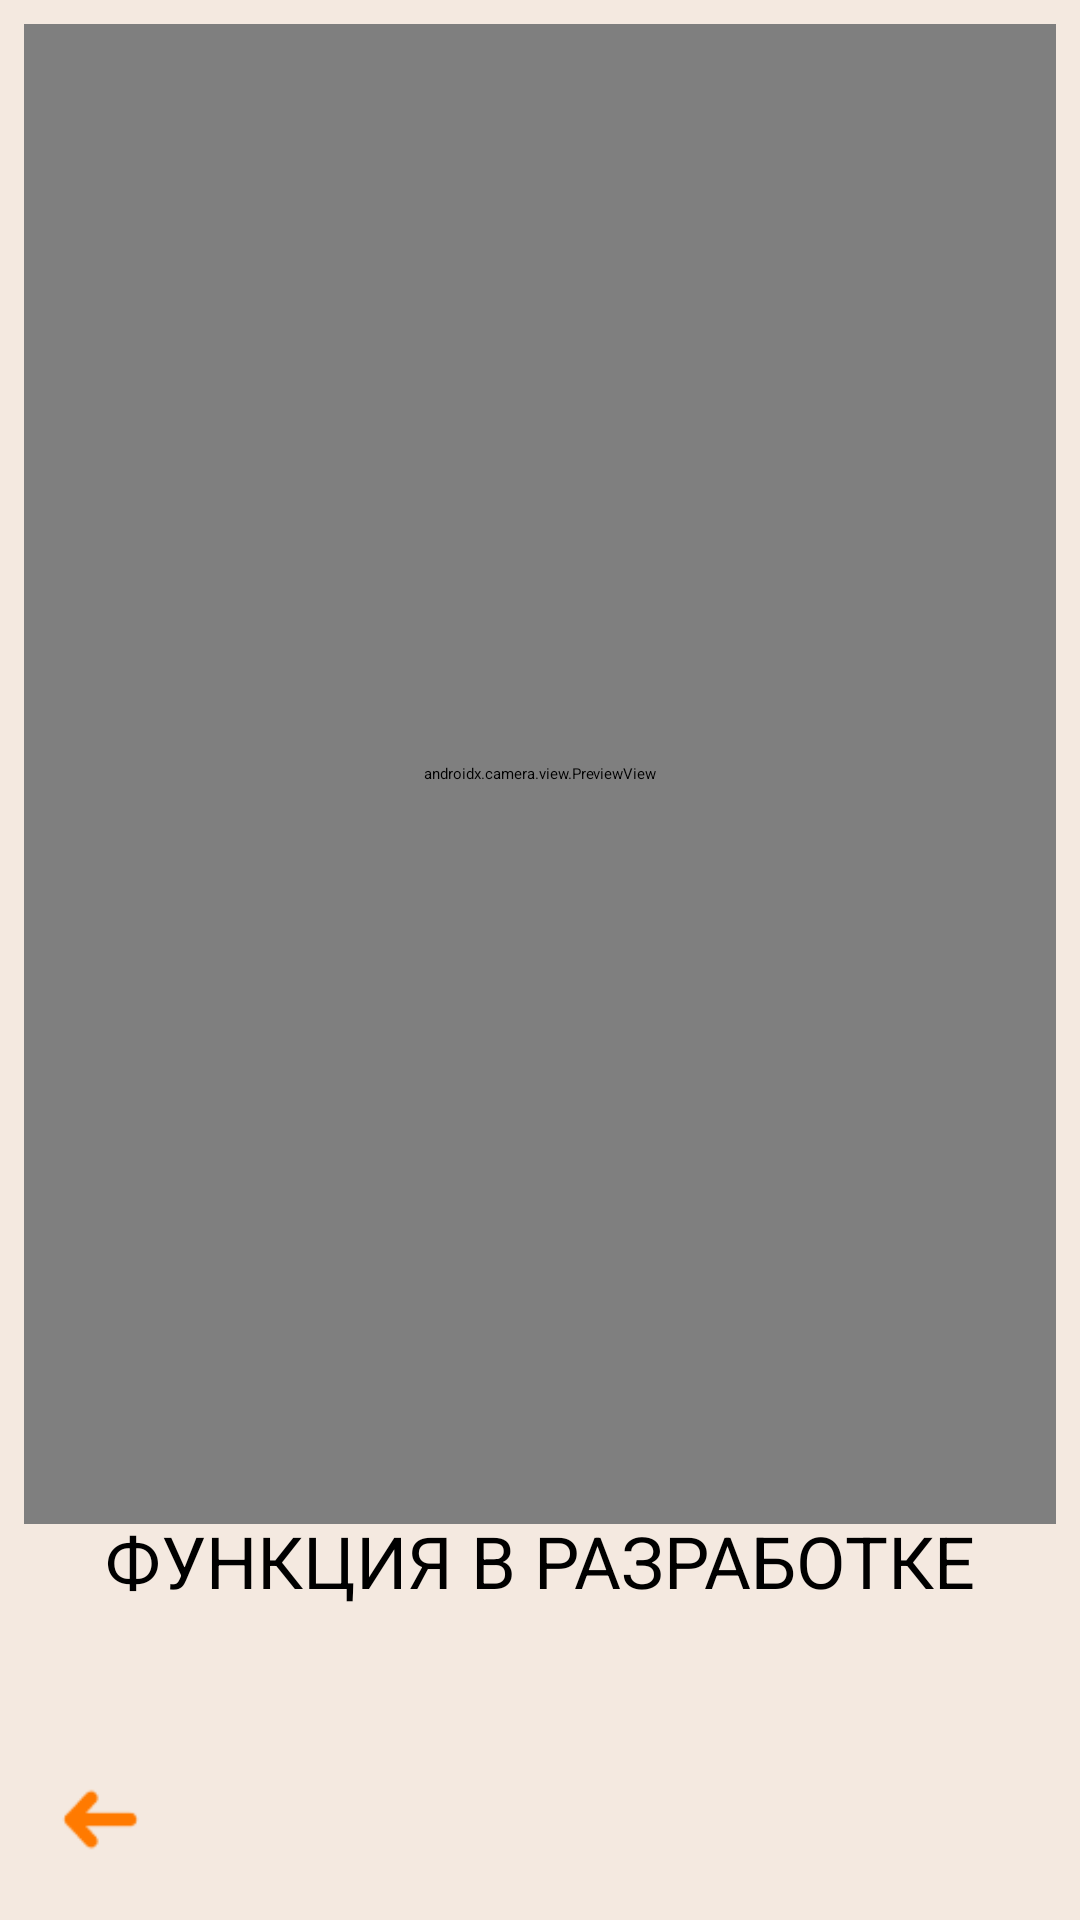

Icons on this 1080px×1920px Android screen, each with the point to tap as [x,y]:
strelka back: [100,1819]
